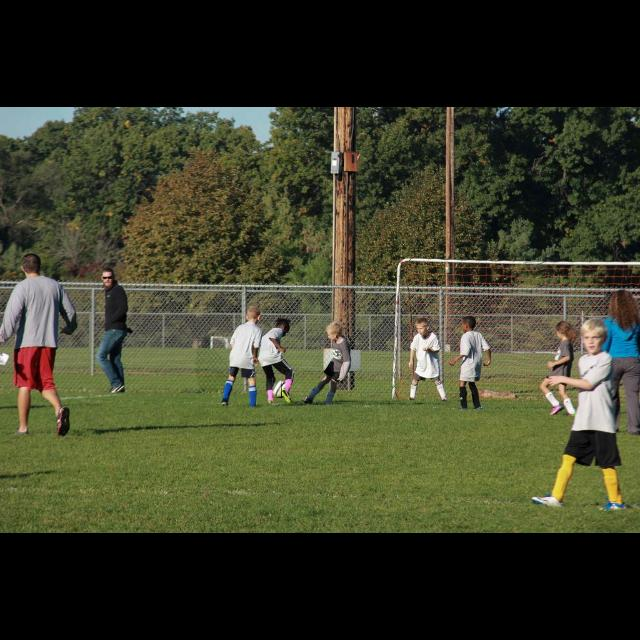Football: (272, 378, 282, 398)
